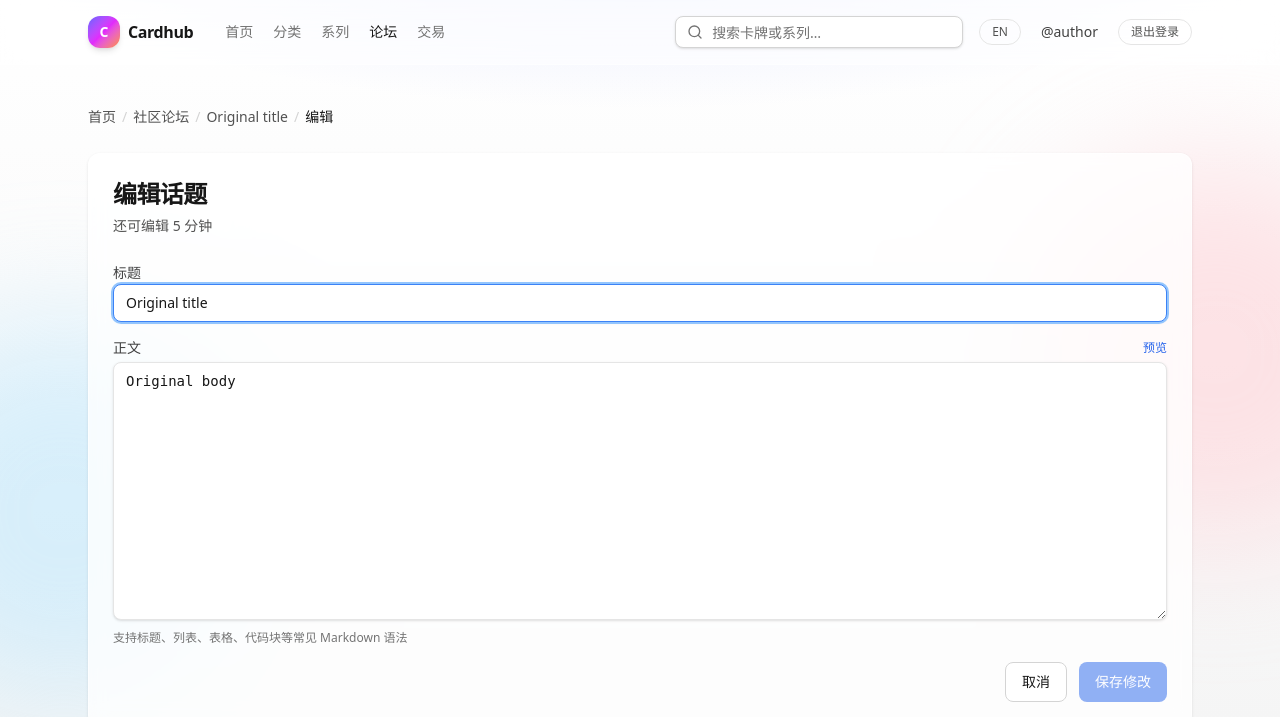
ForumEditPage › keeps the edited body and shows amber alert when the server returns FORBIDDEN
Step 1. Replace the text in the text box labelled "正文" with "Draft that should remain" → [640, 491], box [113,362,1167,620]
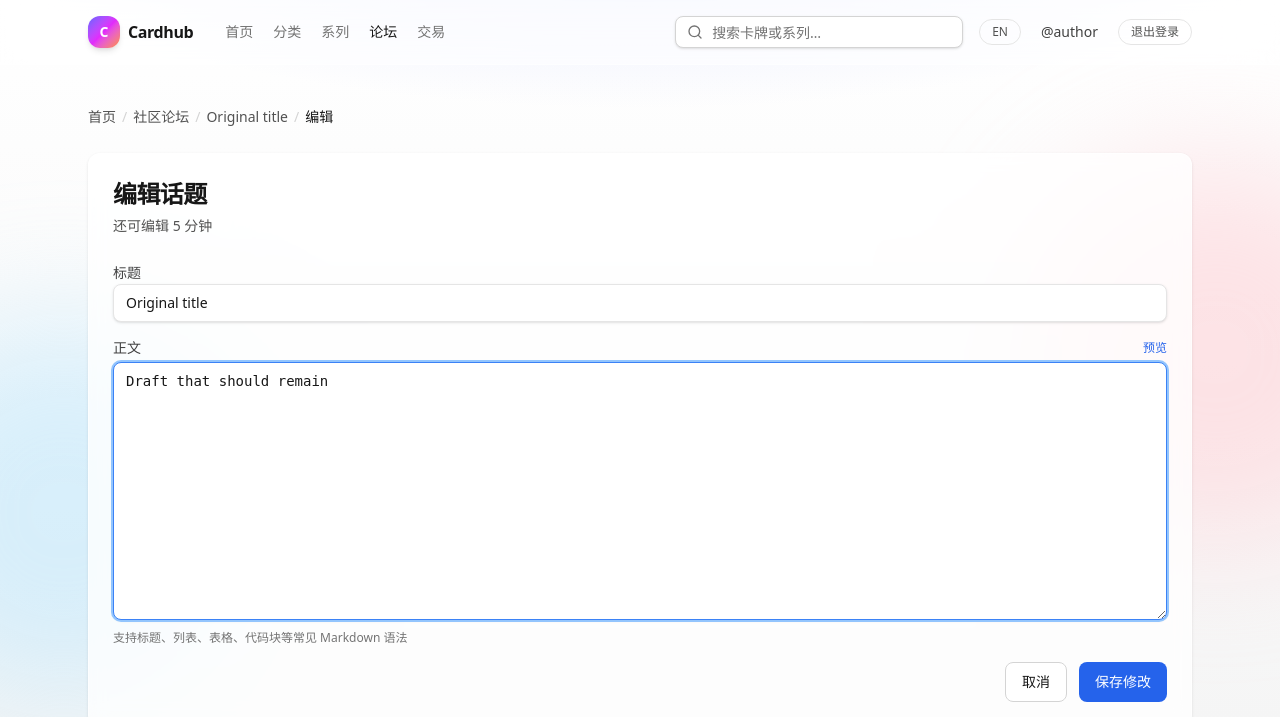
Step 2. Click the button "保存修改" → [1123, 682], box [1079,662,1167,702]
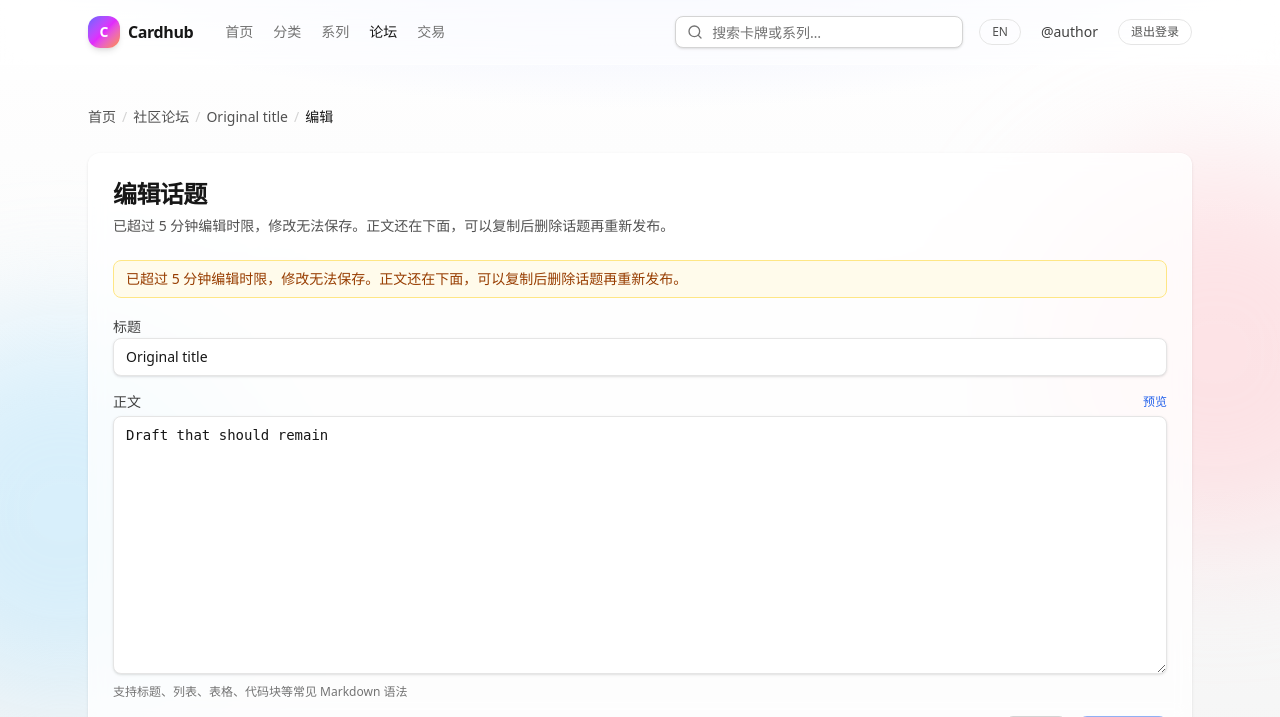
Expected: the message shows "已超过 5 分钟编辑时限", [126,269,687,288]
